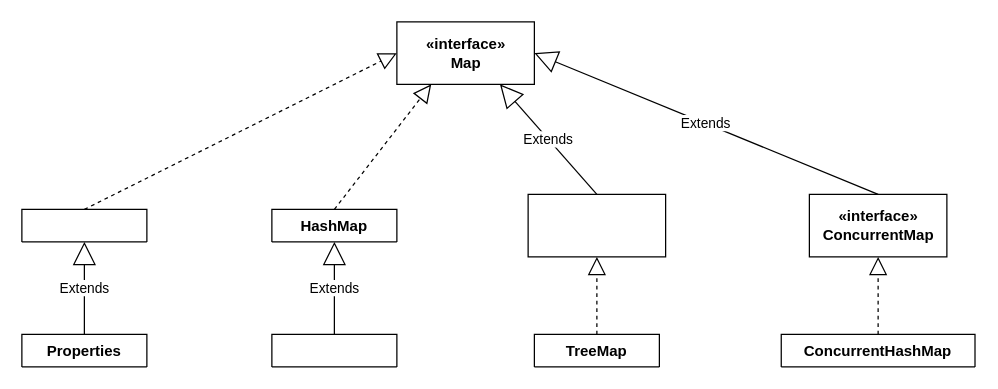
Image size: 998x389. Some labels were removed from this diagram. The shapes that lost their labels are listed below. From the top down, each one's centre as x and y in pixels, then its label:
At point (84, 225): "HashTable".
At point (596, 225): "«interface» SortedMap".
At point (334, 350): "LinkedHashMap".
